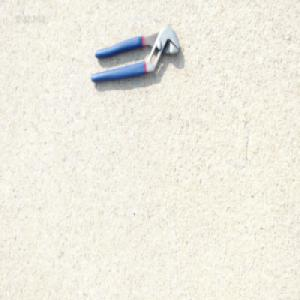Pliers: (89, 24, 180, 84)
